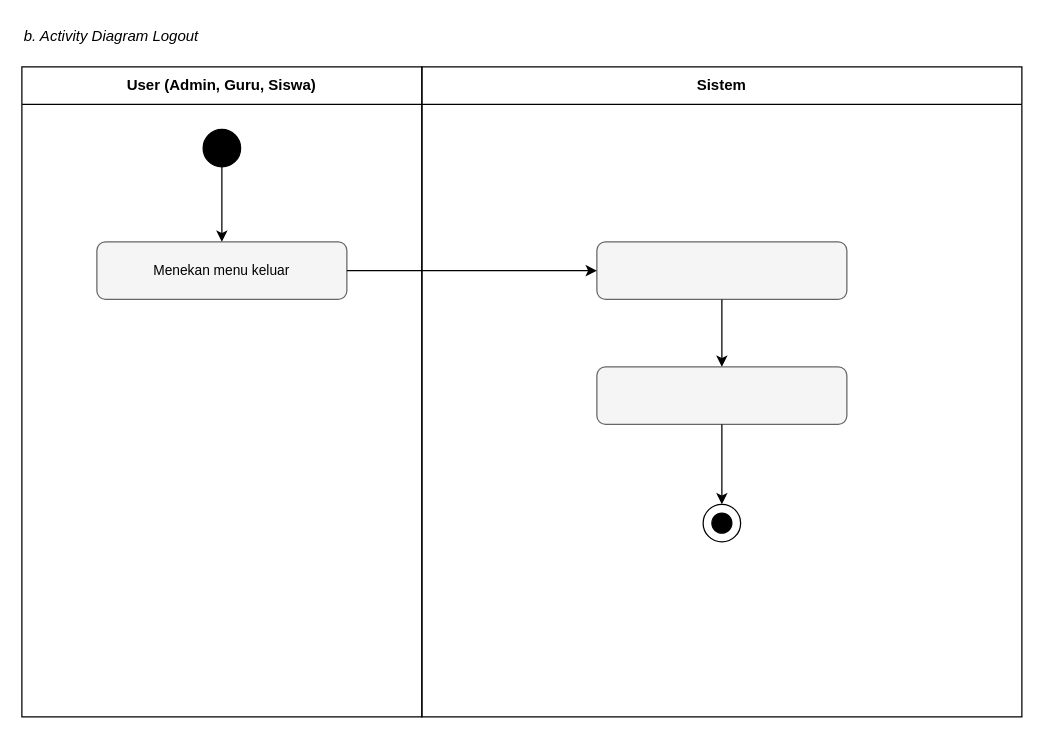
Some shapes in this 1044 by 739 pixel diagram are drawn without their labels. The shapes that lost their labels are listed below. From the top down, each one's centre as x and y in pixels, then its label:
At point (721, 270): "Mengakhiri sesi pengguna".
At point (721, 395): "Mengarahkan ke halaman login".
